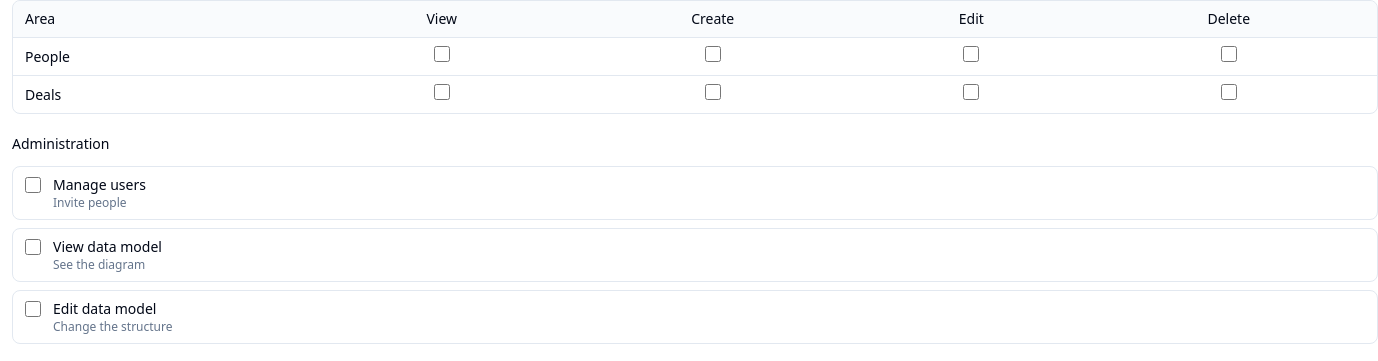
PermissionMatrix › turning on edit also turns on view, and view then stays on
The width and height of the screenshot is (1378, 361).
What coordinates should you click on to do the following:
click the checkbox named "Deals: Edit"
I would click on:
 (971, 92)
Its box is [963,84,979,100].
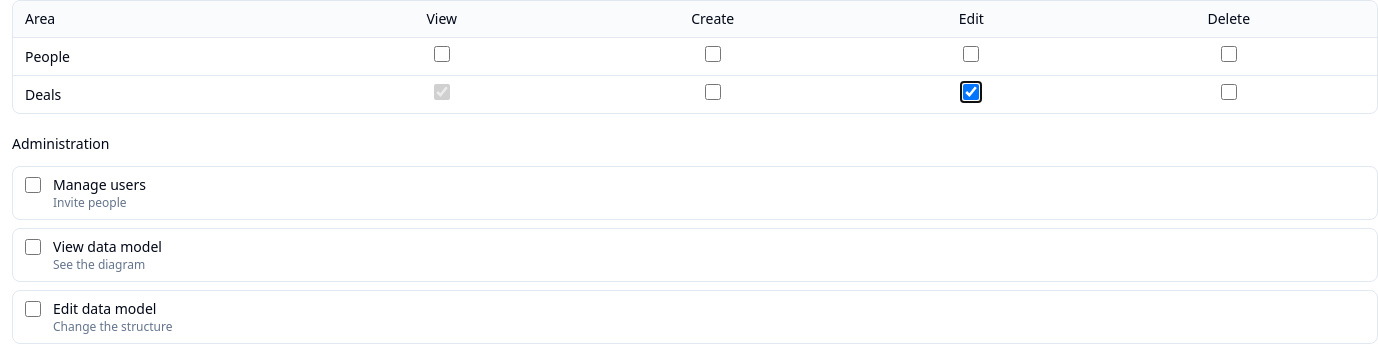
Check: the checkbox named "Deals: View" is checked, box [434,84,450,100]
Check: the checkbox named "Deals: View" is disabled, box [434,84,450,100]
